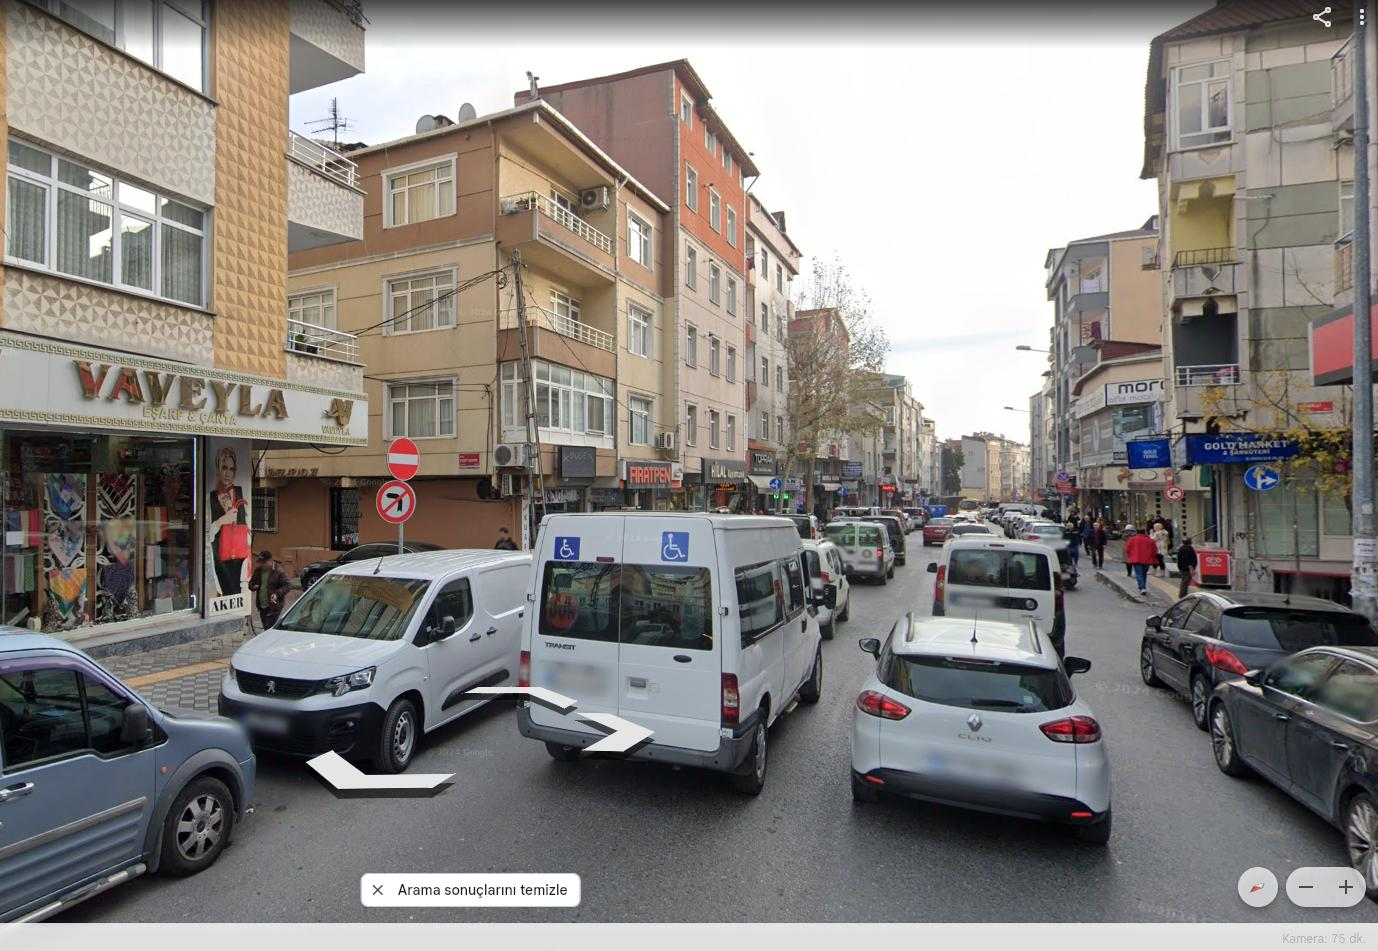leftturnsareforbidden: (377, 479, 419, 525)
rightturnsareforbidden: (1165, 485, 1184, 501)
